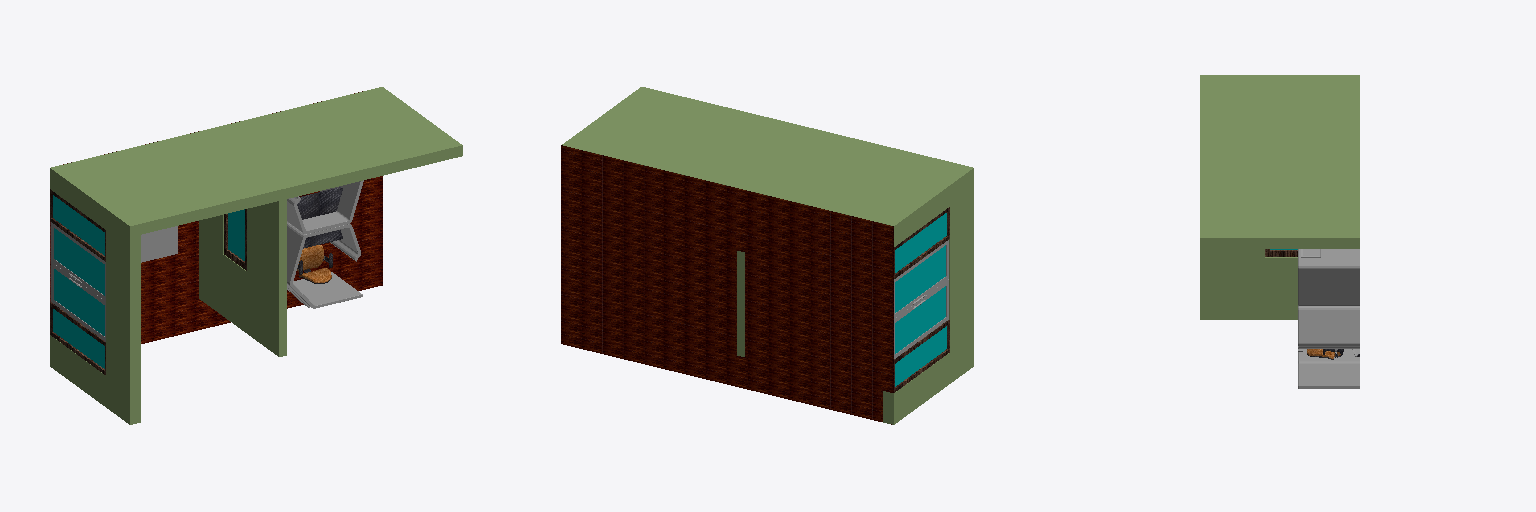
3 views of the same model, side by side, from view 1: azimuth 30°, elevation 25°; view 2: azimuth 150°, elevation 25°; view 3: azimuth 270°, elevation 25° (orthographic).
Parts seen in each view (by area): view 1: Cube.007_Cube.001, Plane.008, Cylinder.006_Cylinder.007, Cylinder.003_Cylinder.020, Plane.010_Plane.019, Plane.009_Plane.018, Plane.007_Plane.017, Plane.006_Plane.016, Cube.006_Cube.030, Plane.001_Plane.009, Plane.004_Plane.003, Cube.002_Cube (+3 smaller); view 2: Plane.008, Cube.007_Cube.001, Plane.010_Plane.019, Plane.009_Plane.018, Plane.007_Plane.017, Plane.006_Plane.016, Cube.002_Cube, Cube.005_Cube.029, Cube.003_Cube.025, Cube.004_Cube.027; view 3: Cube.007_Cube.001, Cylinder.006_Cylinder.007, Cylinder.003_Cylinder.020.
Part boxes in pixels (left/top/right/bottom): Cube.007_Cube.001: left=50, top=87, right=462, bottom=424; Plane.008: left=50, top=91, right=382, bottom=343; Cylinder.006_Cylinder.007: left=287, top=222, right=362, bottom=308; Cylinder.003_Cylinder.020: left=287, top=180, right=363, bottom=233; Plane.010_Plane.019: left=54, top=269, right=104, bottom=335; Plane.009_Plane.018: left=54, top=228, right=104, bottom=295; Plane.007_Plane.017: left=53, top=195, right=104, bottom=255; Plane.006_Plane.016: left=53, top=309, right=104, bottom=368; Cube.006_Cube.030: left=141, top=226, right=177, bottom=262; Plane.001_Plane.009: left=297, top=187, right=342, bottom=219; Plane.004_Plane.003: left=228, top=209, right=244, bottom=260; Cube.002_Cube: left=50, top=302, right=105, bottom=374; Plane.008: left=561, top=145, right=893, bottom=424; Cube.007_Cube.001: left=562, top=87, right=973, bottom=424; Plane.010_Plane.019: left=895, top=286, right=945, bottom=353; Plane.009_Plane.018: left=895, top=245, right=945, bottom=312; Plane.007_Plane.017: left=895, top=213, right=946, bottom=272; Plane.006_Plane.016: left=895, top=326, right=946, bottom=386; Cube.002_Cube: left=894, top=320, right=949, bottom=392; Cube.005_Cube.029: left=894, top=279, right=948, bottom=358; Cube.003_Cube.025: left=894, top=207, right=949, bottom=278; Cube.004_Cube.027: left=894, top=240, right=948, bottom=318; Cube.007_Cube.001: left=1200, top=75, right=1359, bottom=319; Cylinder.006_Cylinder.007: left=1298, top=306, right=1359, bottom=388; Cylinder.003_Cylinder.020: left=1298, top=249, right=1359, bottom=305.
Size of the model in its own units: 22.96 by 13.1 by 9.58.
18 materials, 4 textured.